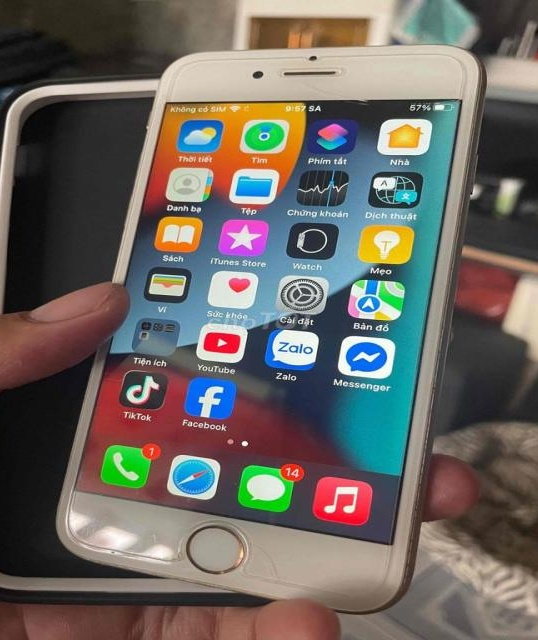screen_defect: (235, 525, 288, 602)
